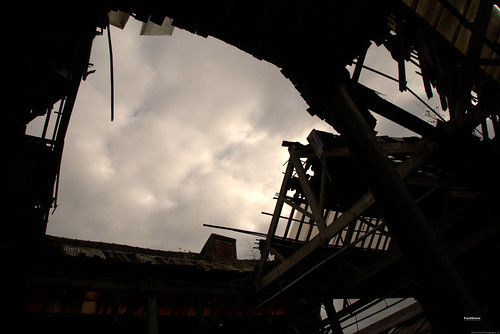building: (237, 1, 500, 325)
sky: (54, 35, 301, 246)
